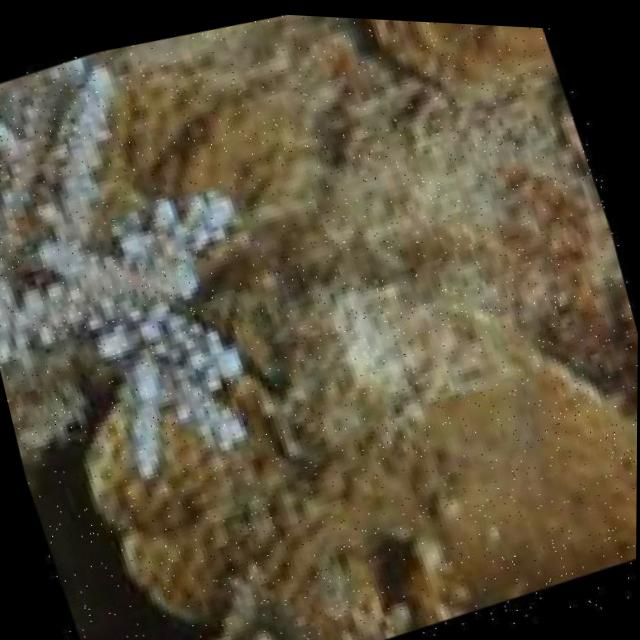Bleached Coral: (0, 32, 269, 501)
